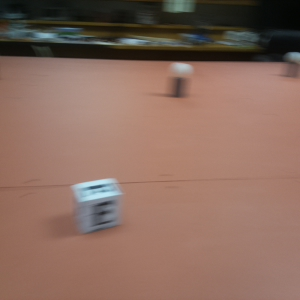blockE: (71, 178, 124, 234)
obstacle: (170, 62, 190, 101), (285, 51, 300, 81)
